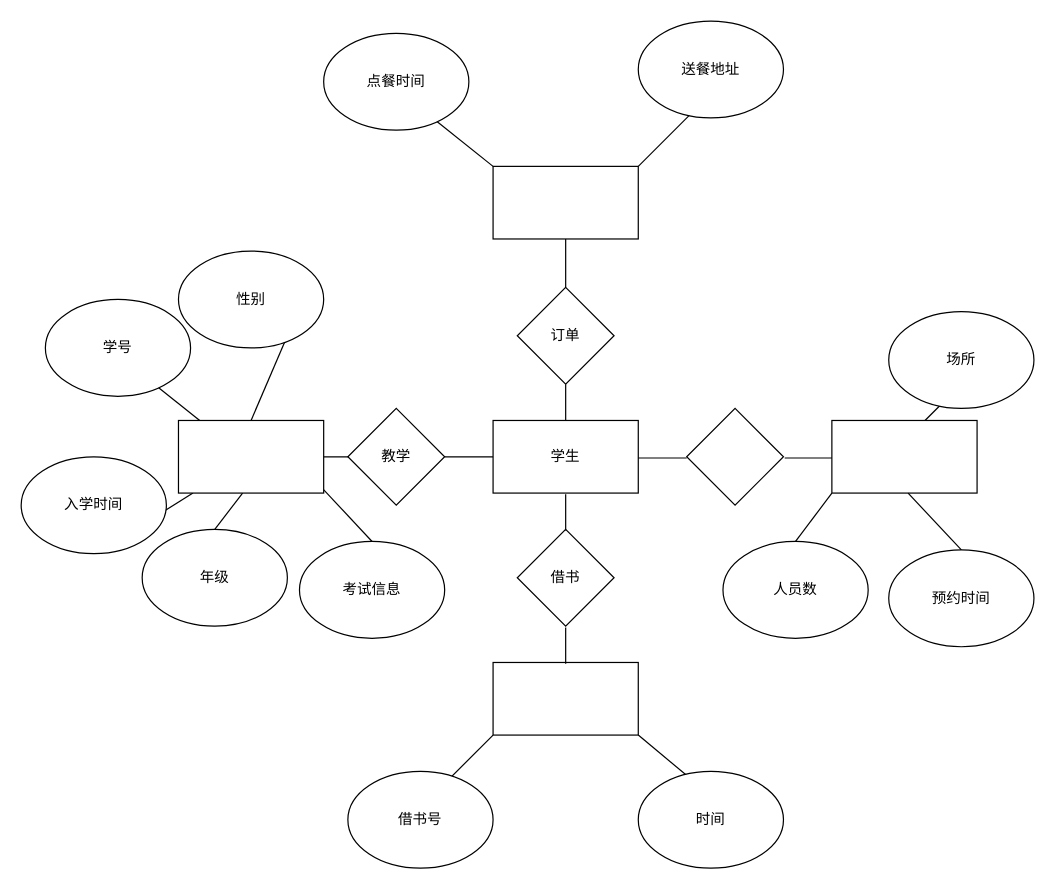
The diagram is 1055 pixels wide and 889 high, and some of its shapes have lost their labels. Here are the shapes that lost their labels. From the top down, the centre of each, then its label:
(565,202): 食堂
(250,456): 学校
(734,456): 预约
(904,456): 活动
(565,698): 图书馆
